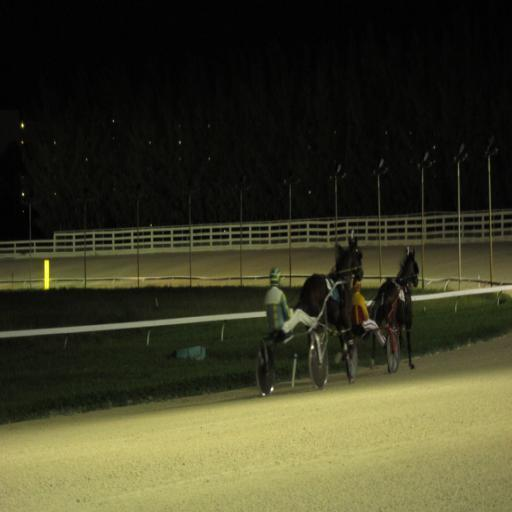horse: (296, 234, 364, 386), (366, 246, 421, 374)
